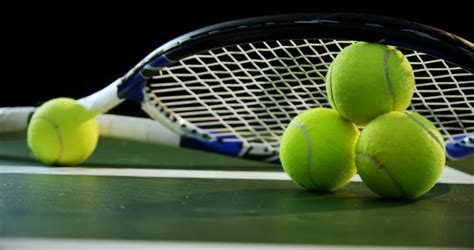tennis_ball: (355, 109, 446, 201), (324, 38, 416, 125), (279, 107, 362, 190), (26, 95, 99, 168)
